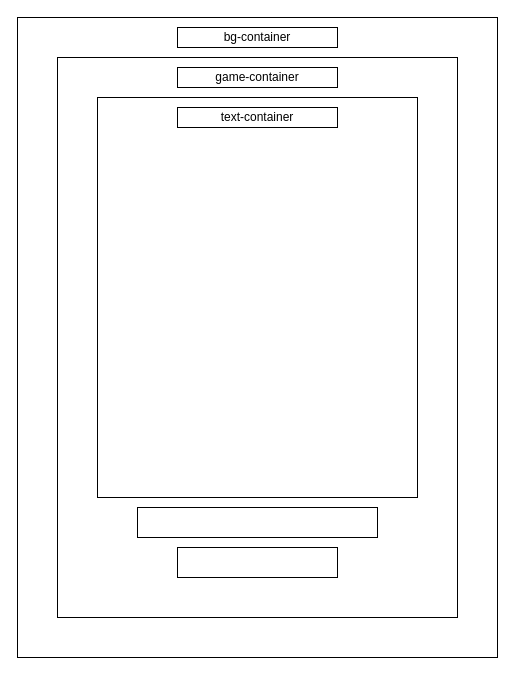
Image size: 515x675. Some labels were removed from this diagram. The centre of each missing label's shape, as x and y in pixels:
"input field" belongs at (257,522).
"submit button" belongs at (257,562).
